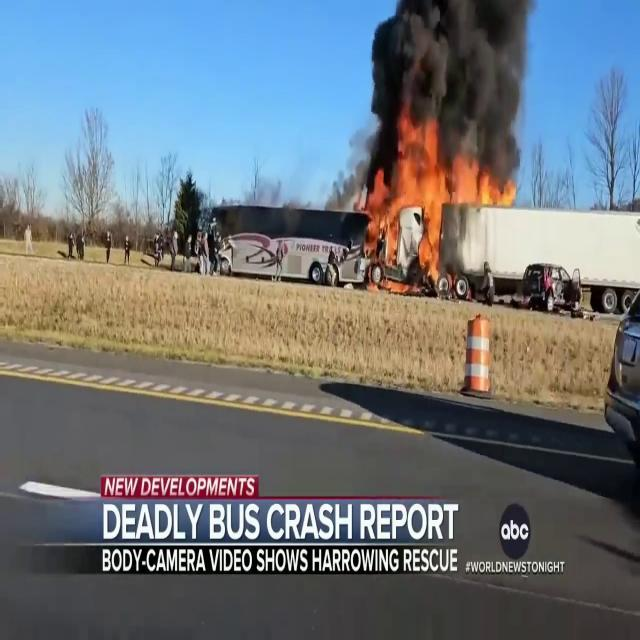Fire: (361, 131, 519, 277)
Smoke: (364, 0, 540, 166)
